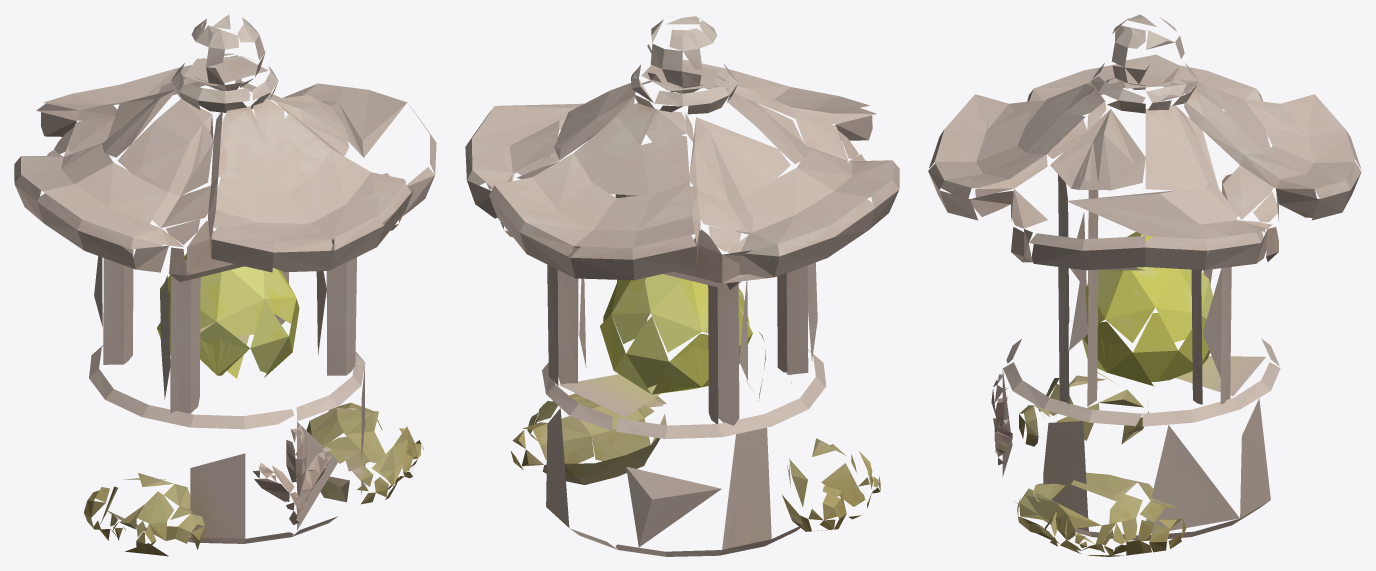
File: g_e_lantern.glb
3 views of the same model, side by side, from view 1: azimuth 30°, elevation 25°; view 2: azimuth 150°, elevation 25°; view 3: azimuth 270°, elevation 25° (orthographic). The views are drawn at different scales.
Visible parts, largest first — view 1: geometry_0; view 2: geometry_0; view 3: geometry_0.
Boxes of the visible parts, <box> form: geometry_0: <box>14,15,436,556</box>; geometry_0: <box>465,16,899,556</box>; geometry_0: <box>928,14,1361,556</box>.
Size of the model in its own units: 0.1299 by 0.1577 by 0.1304.
